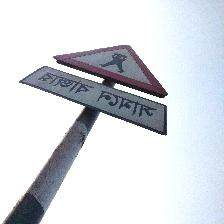Market-in-front: (2, 44, 168, 223)
